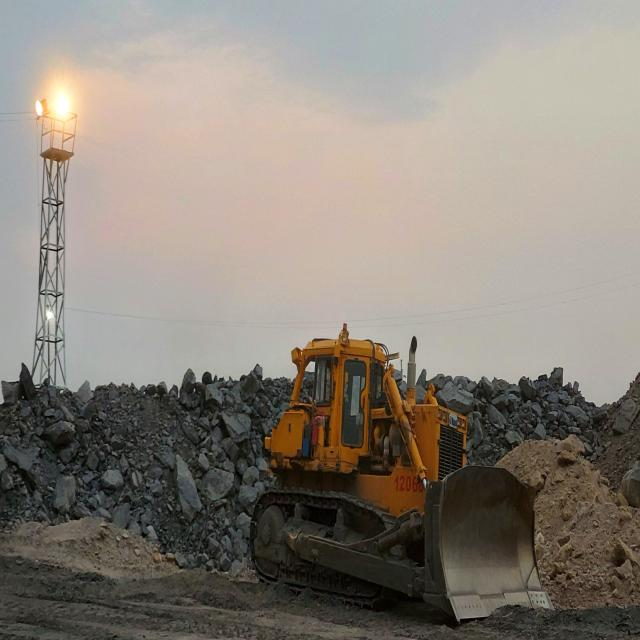buldozerpayloadergrader: (250, 327, 548, 618)
